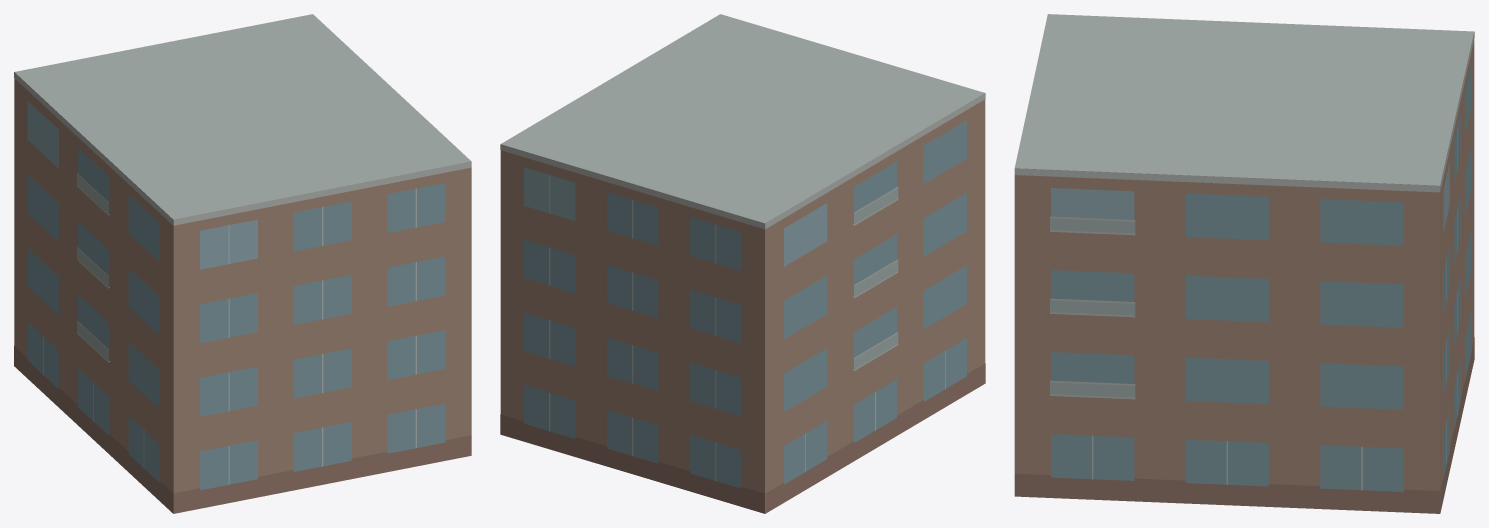
The model's file is survey-upis-32548488.glb.
The picture shows the model from 3 angles, left to right: view 1: azimuth 30°, elevation 25°; view 2: azimuth 150°, elevation 25°; view 3: azimuth 270°, elevation 25°; orthographic projection. The views are drawn at different scales.
Parts seen in each view (by area): view 1: survey-upis-32548488.tmp; view 2: survey-upis-32548488.tmp; view 3: survey-upis-32548488.tmp.
Part boxes in pixels (x1,y1,x2,y2): survey-upis-32548488.tmp: (14, 14, 471, 513); survey-upis-32548488.tmp: (500, 14, 985, 513); survey-upis-32548488.tmp: (1014, 14, 1474, 513).
Bounding box in the file's own units: 13.25 × 11.8 × 14.99.
